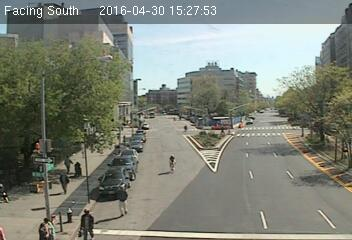neg: (59, 51, 87, 89), (19, 142, 47, 178), (201, 134, 225, 166), (250, 137, 274, 168), (95, 106, 117, 136), (210, 51, 232, 80), (12, 64, 34, 93), (106, 43, 127, 70), (126, 25, 145, 50), (164, 153, 181, 176), (168, 47, 185, 70), (144, 104, 161, 127), (300, 88, 316, 110), (283, 56, 299, 78), (243, 36, 258, 56), (44, 22, 58, 40), (254, 104, 267, 121)
pos: (111, 183, 137, 217), (74, 205, 97, 237), (38, 214, 56, 237), (59, 171, 76, 193), (59, 151, 74, 171), (74, 159, 87, 176), (182, 122, 192, 135)
